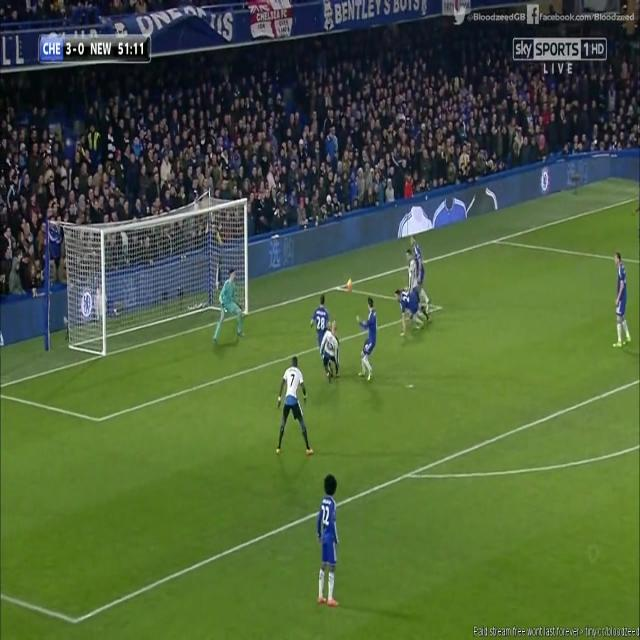Ball: (345, 274, 355, 296)
Goalkeeper: (210, 268, 247, 350)
Player: (273, 353, 316, 460), (315, 470, 343, 610), (609, 249, 636, 352), (354, 296, 379, 386), (410, 232, 432, 310), (394, 286, 424, 336), (318, 319, 342, 378), (309, 293, 331, 344), (404, 246, 419, 293)
